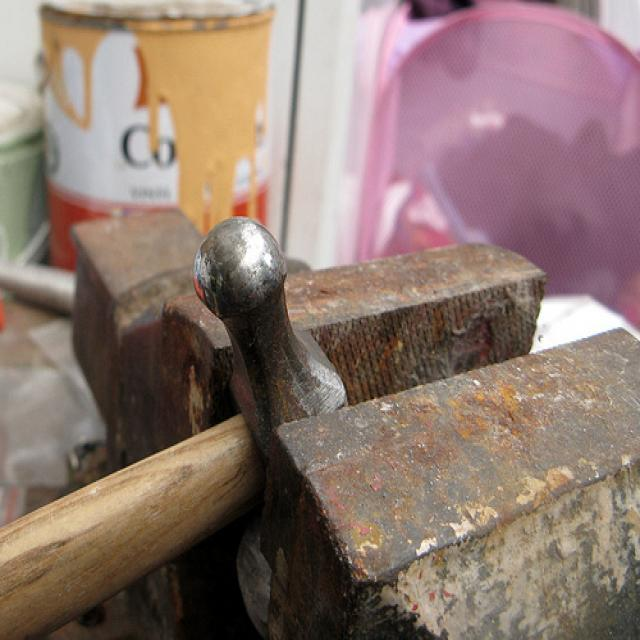hammer: (0, 198, 369, 632)
